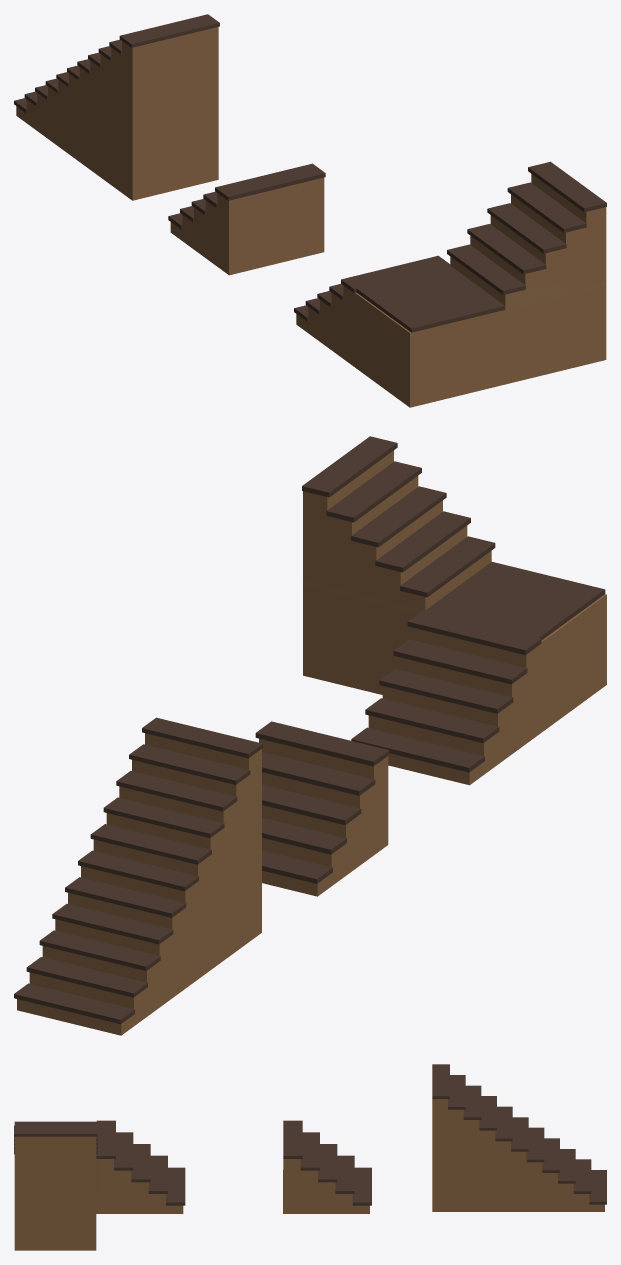
The model's file is sectionalStairs.fbx.
3 renders of one model, top to bottom at view 1: azimuth 30°, elevation 25°; view 2: azimuth 150°, elevation 25°; view 3: azimuth 270°, elevation 25°, orthographic. The views are drawn at different scales.
Visible parts, largest first — view 1: Stairs.Split, Stairs.004, Stairs.Half; view 2: Stairs.Split, Stairs.004, Stairs.Half; view 3: Stairs.Split, Stairs.004, Stairs.Half.
Boxes of the visible parts, bbox=[...] form: Stairs.Split: bbox=[294, 161, 606, 407]; Stairs.004: bbox=[14, 14, 219, 200]; Stairs.Half: bbox=[168, 163, 325, 275]; Stairs.Split: bbox=[302, 436, 606, 785]; Stairs.004: bbox=[14, 717, 262, 1035]; Stairs.Half: bbox=[255, 721, 389, 896]; Stairs.Split: bbox=[14, 1120, 185, 1250]; Stairs.004: bbox=[432, 1064, 606, 1211]; Stairs.Half: bbox=[283, 1120, 371, 1213].
Bounding box in the file's own units: 633 × 2219 × 482.
